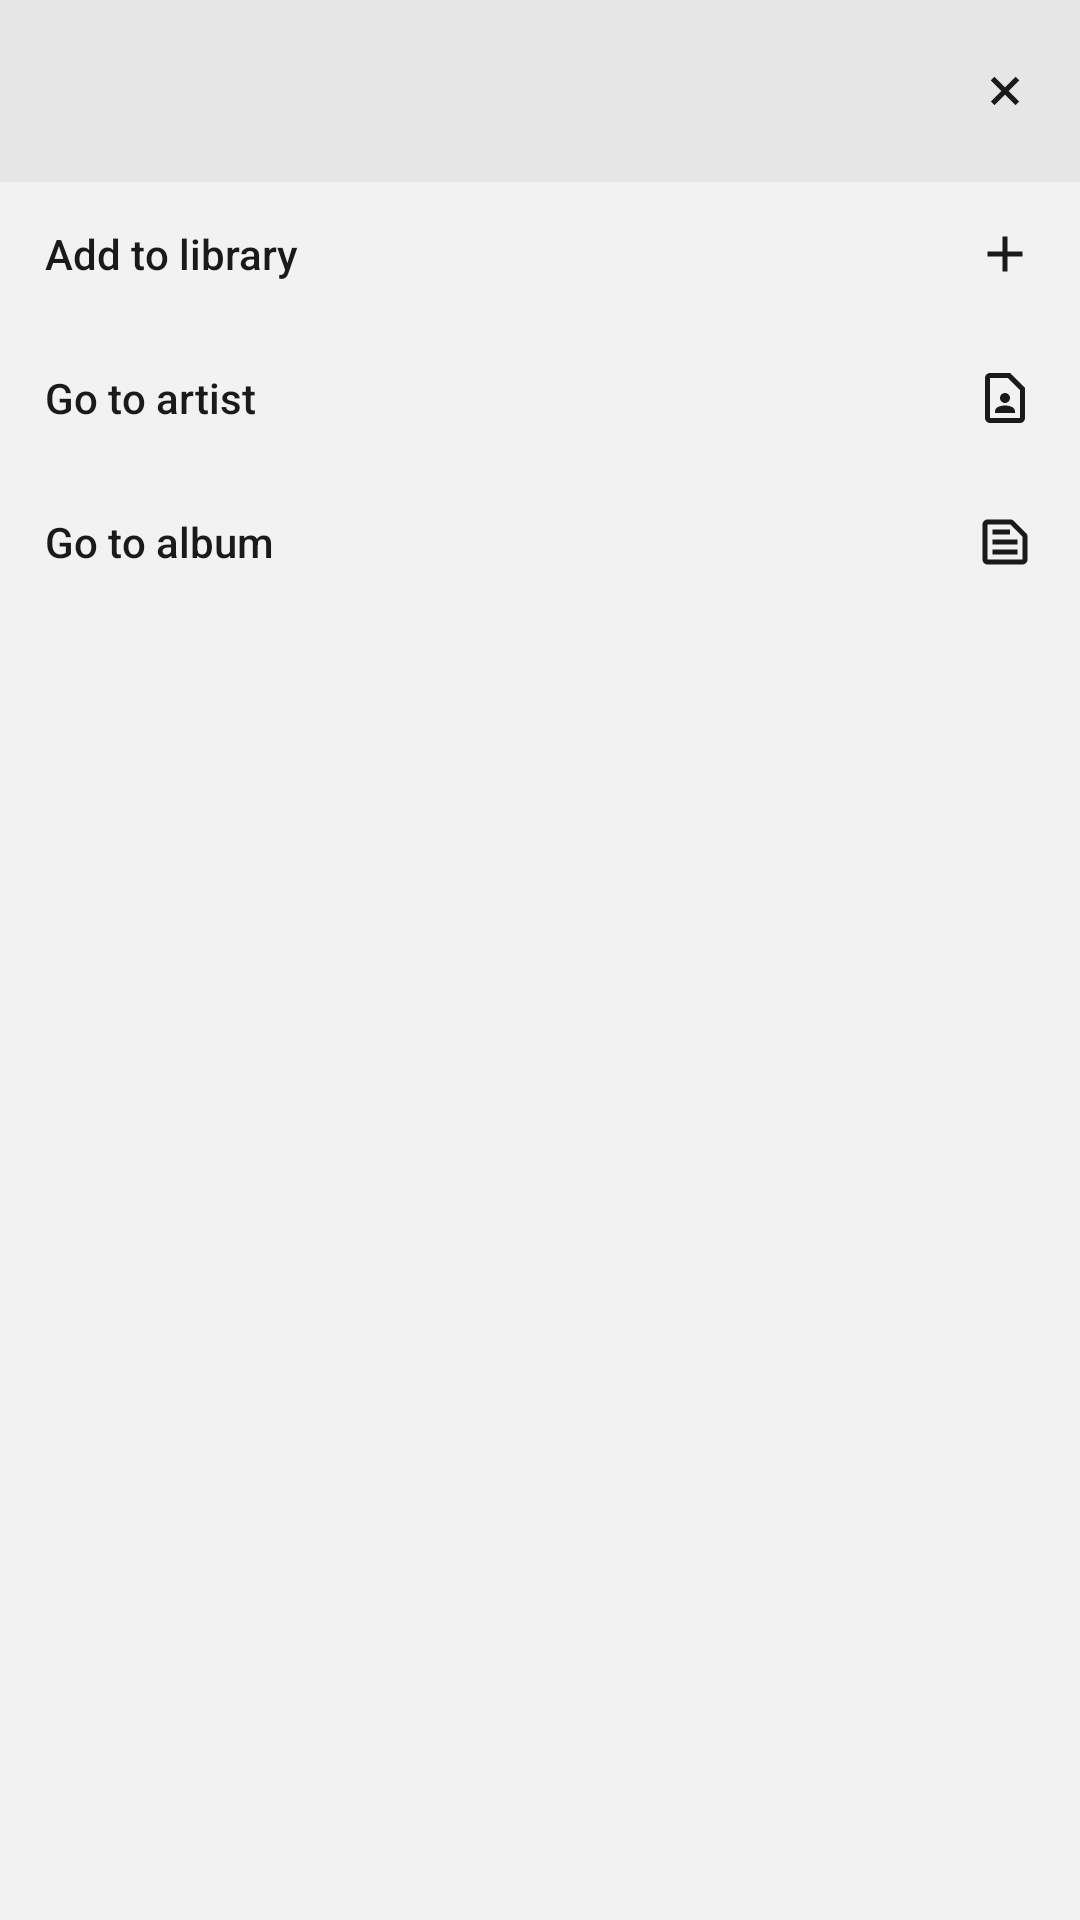

Icon bounding boxes for this 1080 × 1920 phone screenshot, format bbox(x1, y1, x2, y2):
close: bbox(991, 77, 1019, 105)
